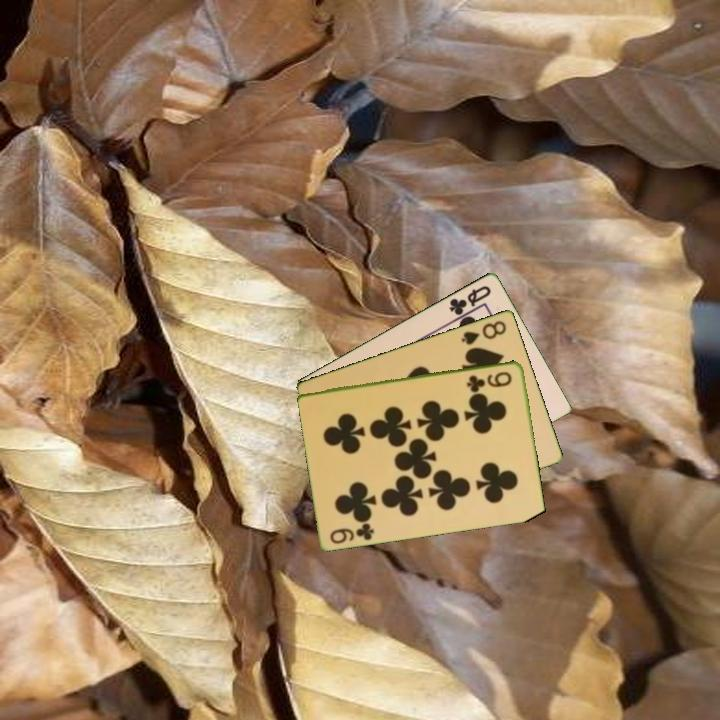8s: (458, 316, 509, 347)
9c: (327, 519, 377, 546), (463, 368, 515, 393)
Qc: (446, 281, 494, 318)
